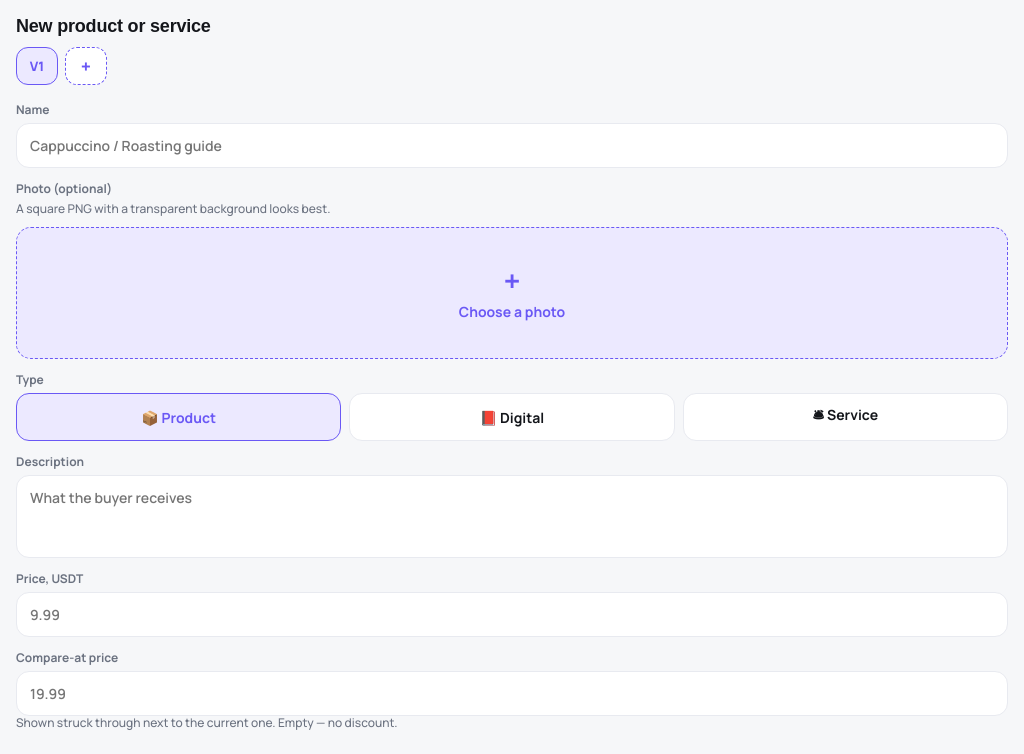
Test: ProductFormView — упёрлись в лимит тарифа › 403 про лимит открывает тарифы, а не красную строку
The width and height of the screenshot is (1024, 754).
Type "Одиннадцатый товар" into the field with placeholder "Cappuccino / Roasting guide" at [512, 146], box [16,123,1008,168]
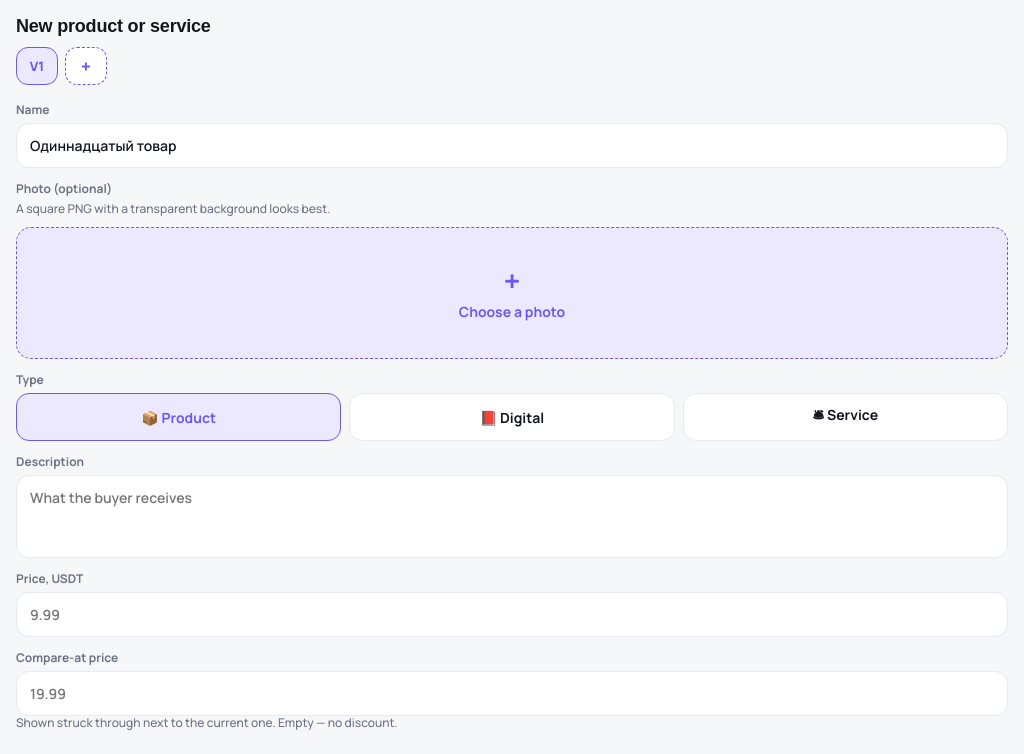
Type "5" into the field with placeholder "9.99" at [512, 614], box [16,592,1008,637]
(page scrolled)
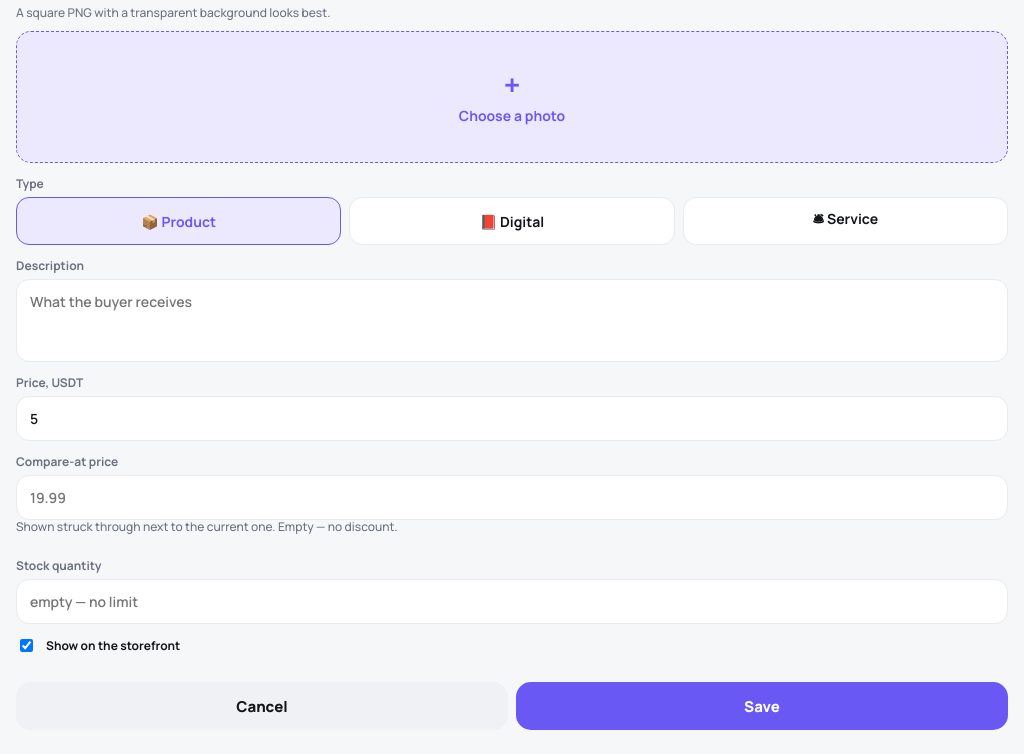
Click the button "Save" at [762, 706], box [516,682,1008,730]
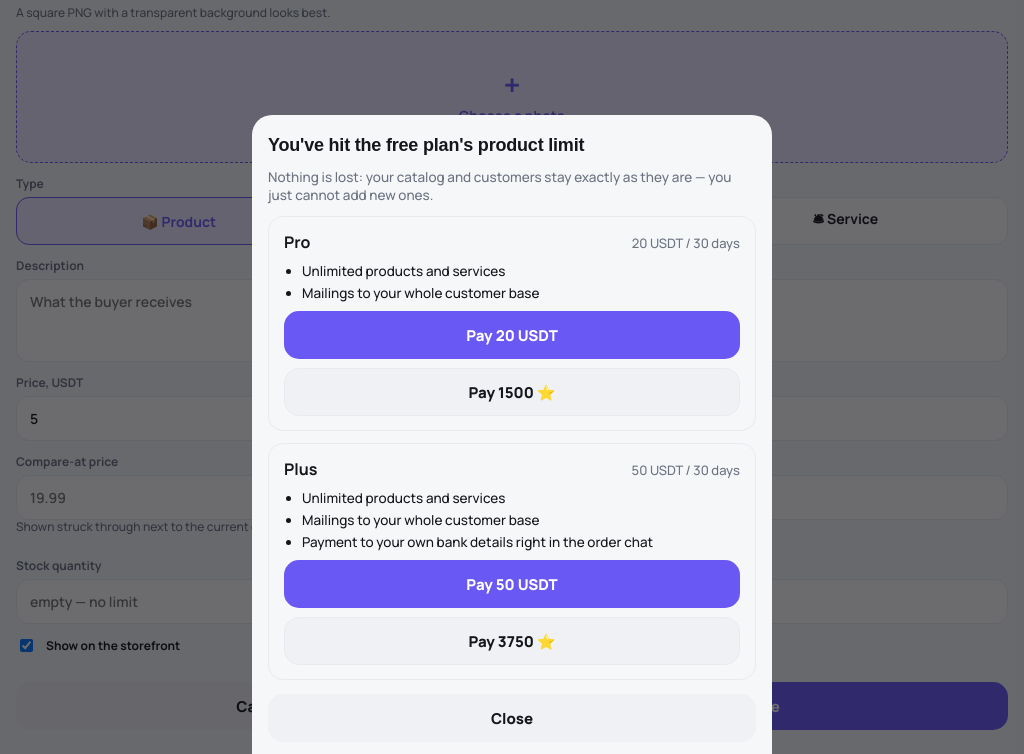
Expected: the 1st element with class "tier" is shown, [268,216,756,431]
